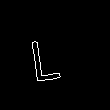L_N: (37, 27, 73, 83)
